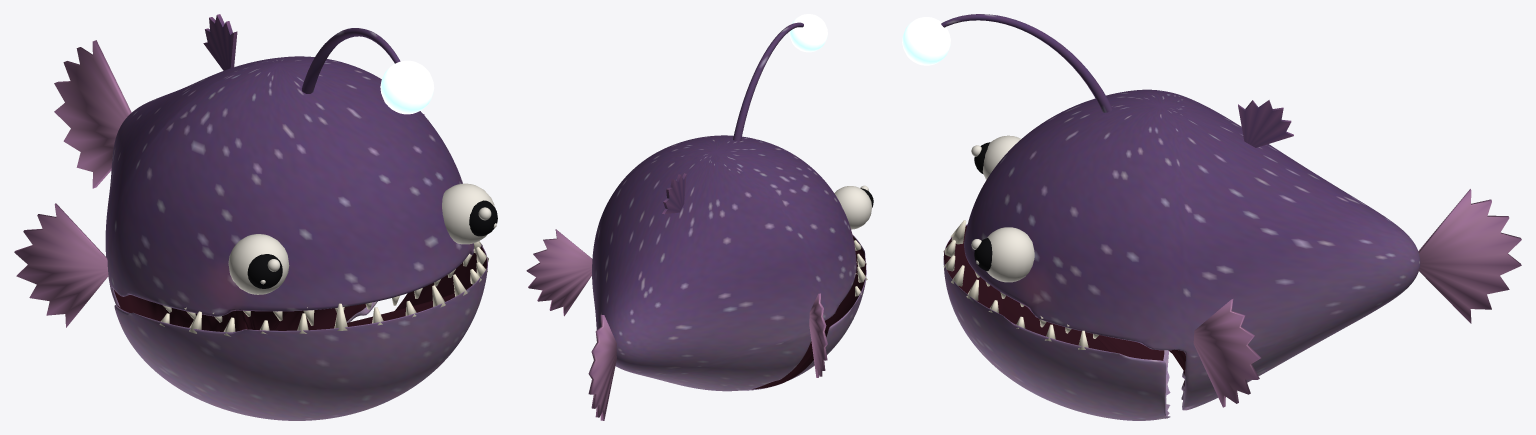
The model's file is anglerfish.glb.
The picture shows the model from 3 angles, left to right: view 1: azimuth 30°, elevation 25°; view 2: azimuth 150°, elevation 25°; view 3: azimuth 270°, elevation 25°; orthographic projection. The views are drawn at different scales.
Visible parts, largest first — view 1: Body, Jaw, FinR, Tail, Lure; view 2: Body, FinL, Jaw, Lure, Tail, FinR; view 3: Body, Jaw, Tail, FinL, Lure.
Part boxes in pixels (x1,y1,x2,y2): Body: (105,14,497,331); Jaw: (114,241,488,420); FinR: (14,203,108,327); Tail: (54,40,131,188); Lure: (302,28,434,114); Body: (592,135,873,391); FinL: (526,229,592,316); Jaw: (743,234,867,390); Lure: (733,14,827,141); Tail: (588,314,616,420); FinR: (809,293,827,377); Body: (964,89,1420,410); Jaw: (943,220,1170,420); Tail: (1418,189,1521,323); FinL: (1193,299,1260,407); Lure: (902,14,1112,112).
Bounding box in the file's own units: 2.7 × 2.64 × 3.8.
